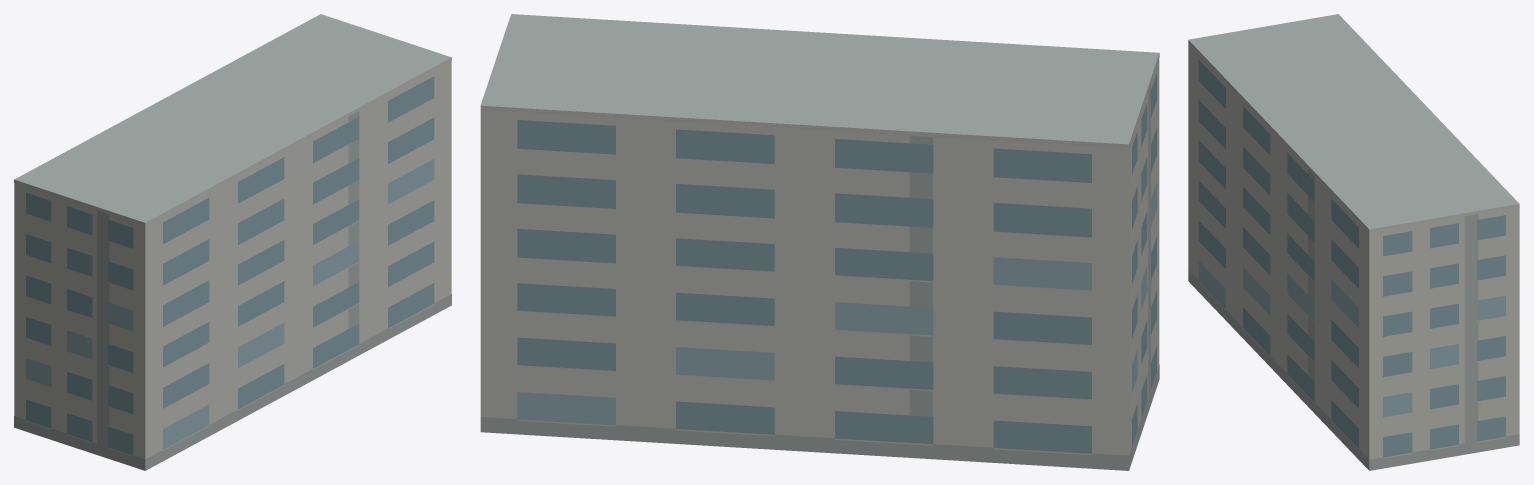
The model's file is residential-61cf359c-a5d3-4b90-a992-137a27b6e3f0.glb.
3 renders of one model, left to right at view 1: azimuth 30°, elevation 25°; view 2: azimuth 150°, elevation 25°; view 3: azimuth 270°, elevation 25°, orthographic. The views are drawn at different scales.
Parts seen in each view (by area): view 1: residential-61cf359c-a5d3-4b90-a992-137a27b6e3f0.tmp; view 2: residential-61cf359c-a5d3-4b90-a992-137a27b6e3f0.tmp; view 3: residential-61cf359c-a5d3-4b90-a992-137a27b6e3f0.tmp.
Boxes of the visible parts, x1,y1,x2,y2 form: residential-61cf359c-a5d3-4b90-a992-137a27b6e3f0.tmp: [14, 14, 451, 470]; residential-61cf359c-a5d3-4b90-a992-137a27b6e3f0.tmp: [480, 14, 1159, 470]; residential-61cf359c-a5d3-4b90-a992-137a27b6e3f0.tmp: [1188, 14, 1519, 470].
Bounding box in the file's own units: 35.02 × 18.3 × 22.76.
